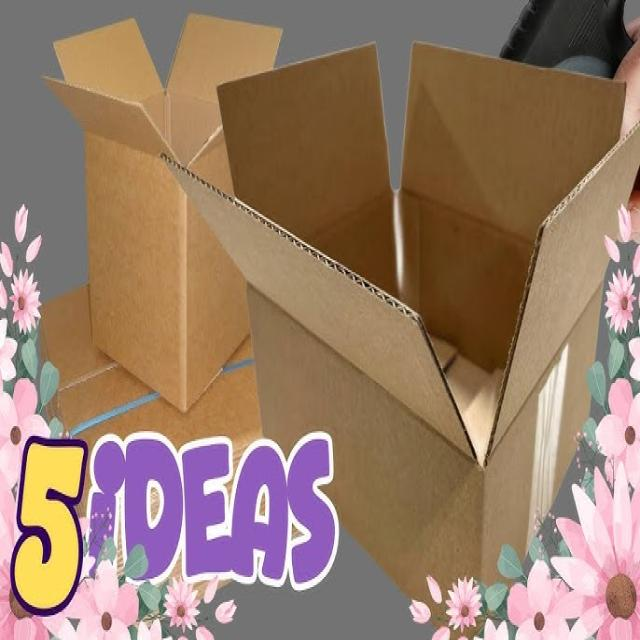cardboard_box: (227, 10, 636, 575), (43, 1, 304, 401)
